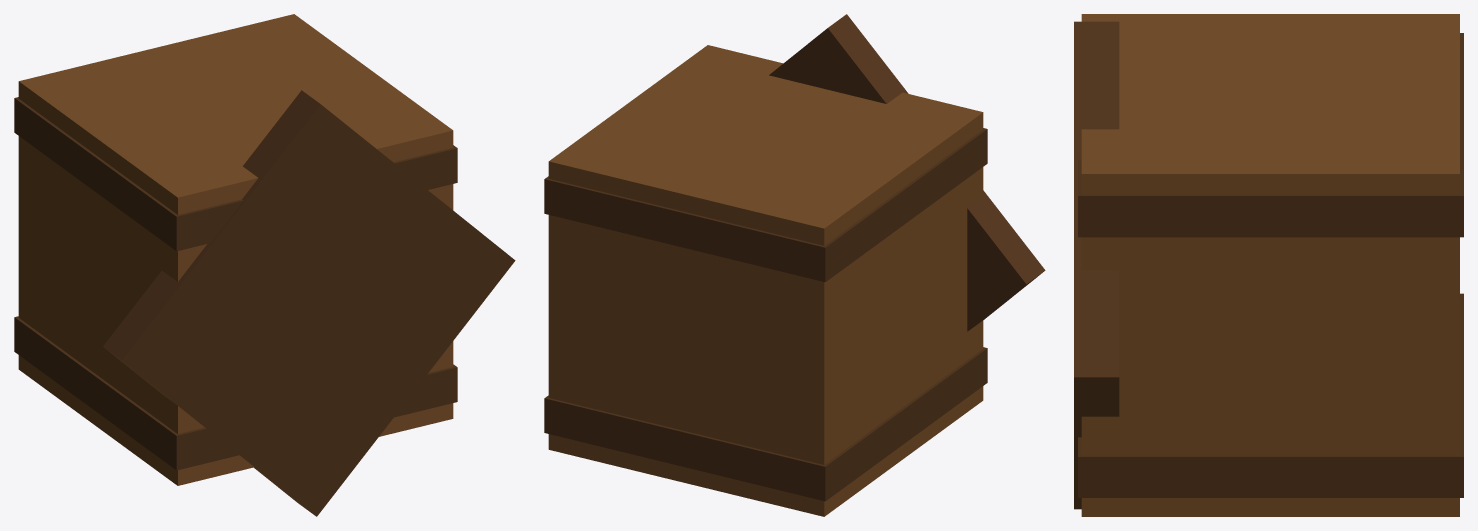
Rendered from crate_wood.glb.
The picture shows the model from 3 angles, left to right: view 1: azimuth 30°, elevation 25°; view 2: azimuth 150°, elevation 25°; view 3: azimuth 270°, elevation 25°; orthographic projection. The views are drawn at different scales.
Visible parts, largest first — view 1: model; view 2: model; view 3: model.
Part boxes in pixels (x1,y1,x2,y2): model: [14, 14, 515, 516]; model: [544, 14, 1045, 516]; model: [1074, 14, 1463, 516].
Bounding box in the file's own units: 1.43 × 1.43 × 1.03.
